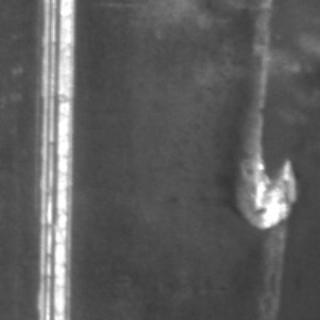scratches: (28, 0, 78, 318), (245, 0, 285, 280), (226, 136, 296, 228)
